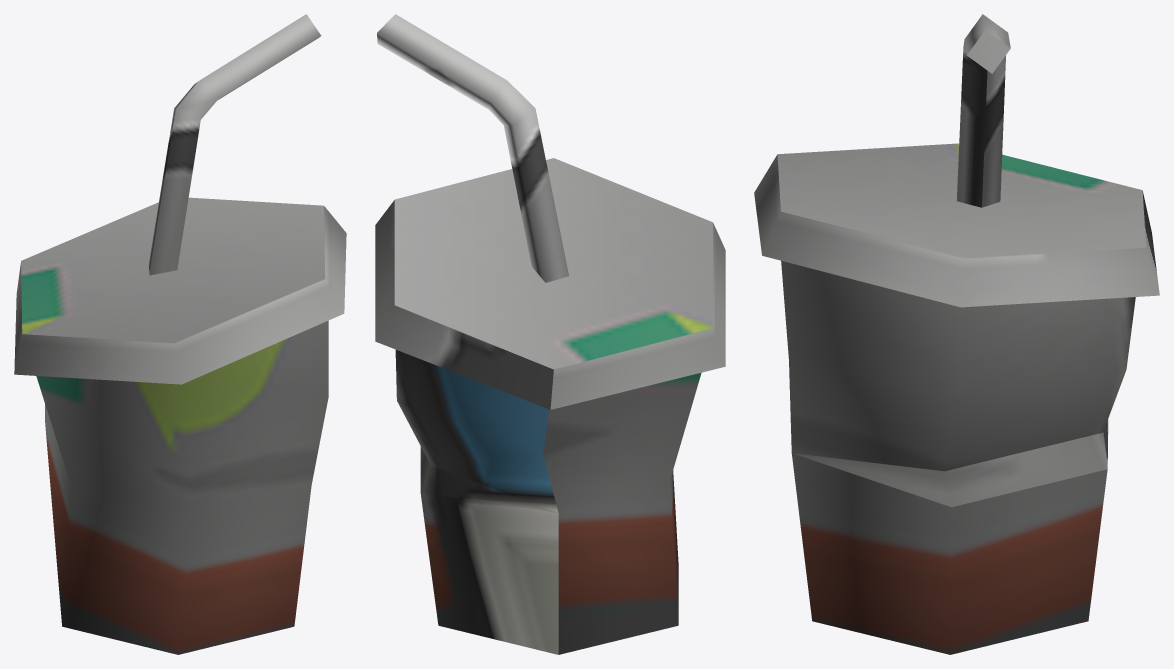
The model's file is Trash_PlasticCup.fbx.
3 views of the same model, side by side, from view 1: azimuth 30°, elevation 25°; view 2: azimuth 150°, elevation 25°; view 3: azimuth 270°, elevation 25° (orthographic). The views are drawn at different scales.
Visible parts, largest first — view 1: Trash_PlasticCup; view 2: Trash_PlasticCup; view 3: Trash_PlasticCup.
Part boxes in pixels (x1,y1,x2,y2): Trash_PlasticCup: (14,14,346,654); Trash_PlasticCup: (375,14,725,654); Trash_PlasticCup: (754,14,1159,654).
Bounding box in the file's own units: 96.13 × 148 × 84.67.
